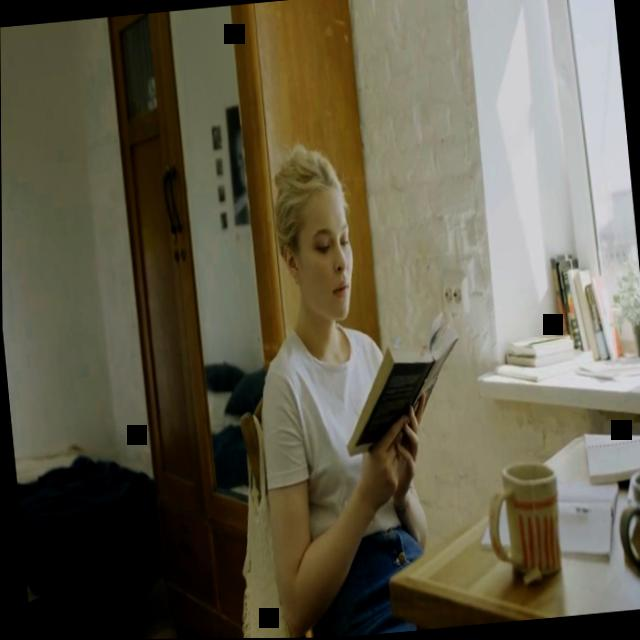NO-Mask: (294, 199, 358, 325)
